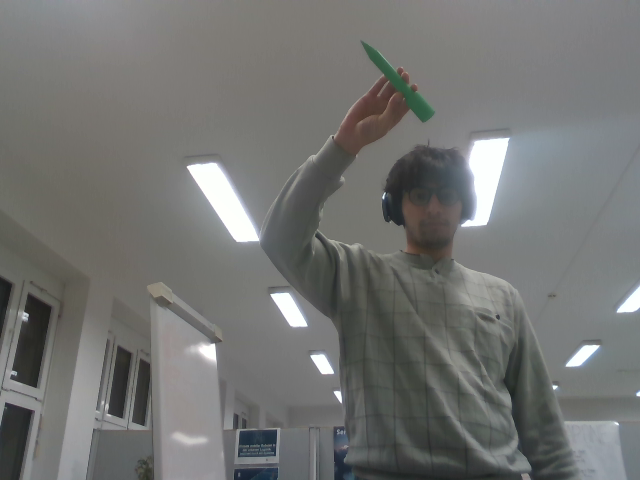Probe: (357, 35, 442, 124)
